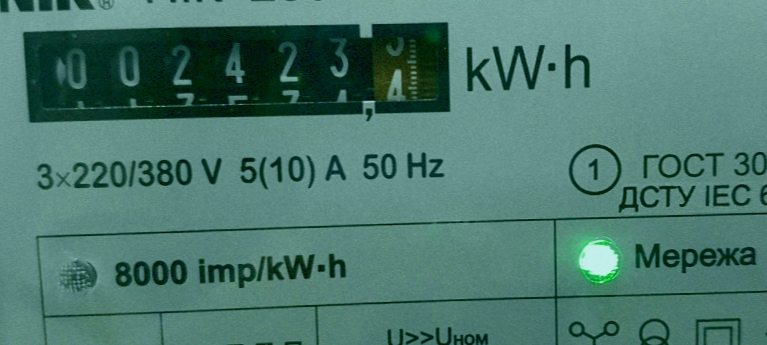0: (64, 43, 92, 91), (118, 42, 143, 87)
2: (169, 40, 196, 87), (277, 38, 301, 84)
3: (328, 34, 352, 79), (385, 33, 407, 56)
4: (224, 39, 247, 85), (384, 64, 410, 102)
screen: (13, 10, 465, 134)
